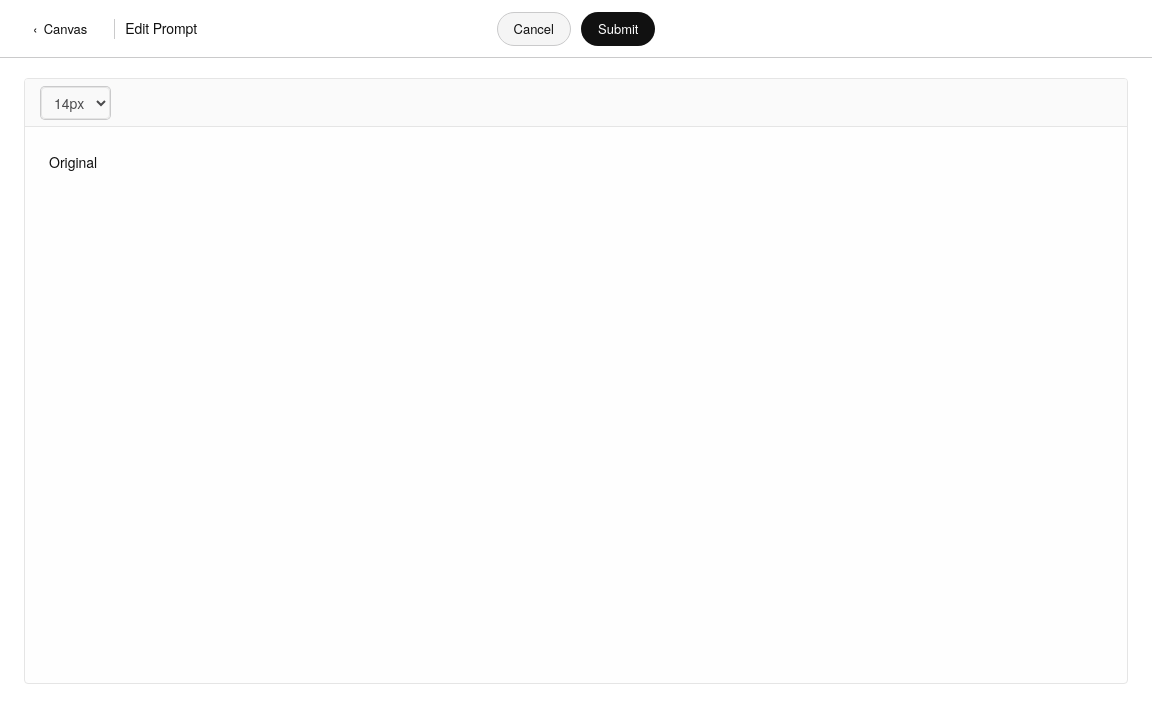
Test: PromptEditorModal › Unsaved Changes Confirmation Dialog › should dismiss confirmation dialog when clicking outside of it
Replace the text in the text box with placeholder "Describe what to generate..." with "Changed" at x=576, y=405, box [25,127,1127,683]
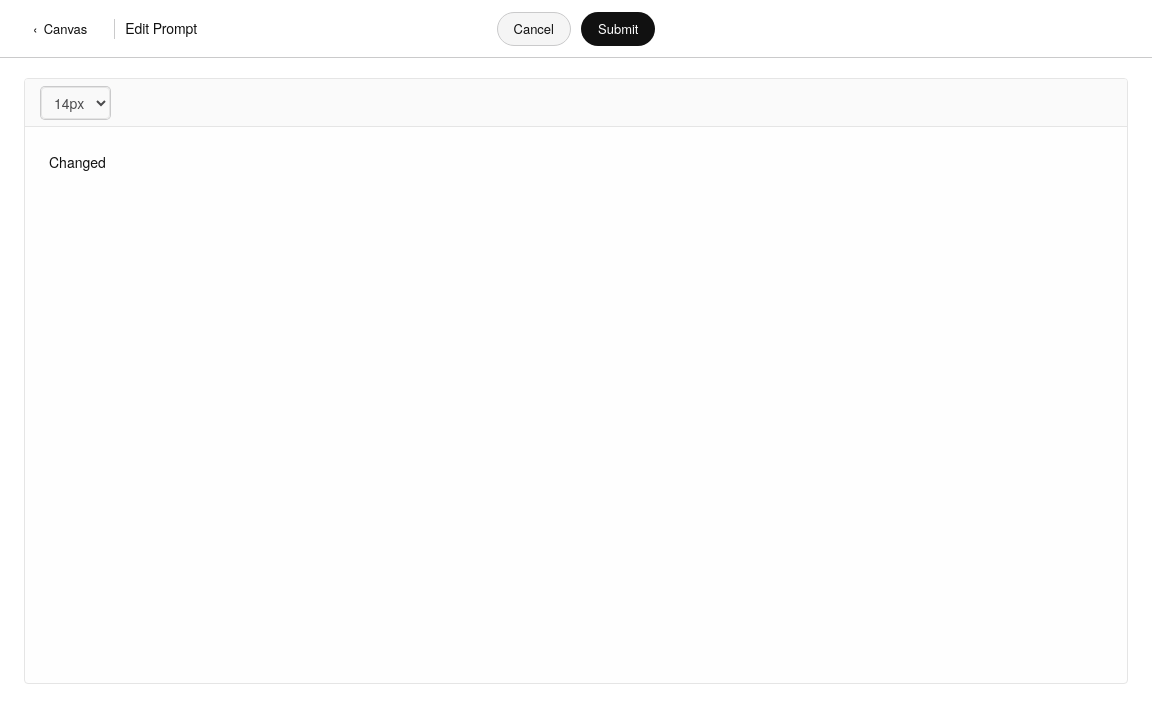
Click the button "Cancel" at x=534, y=28, box [496,12,571,46]
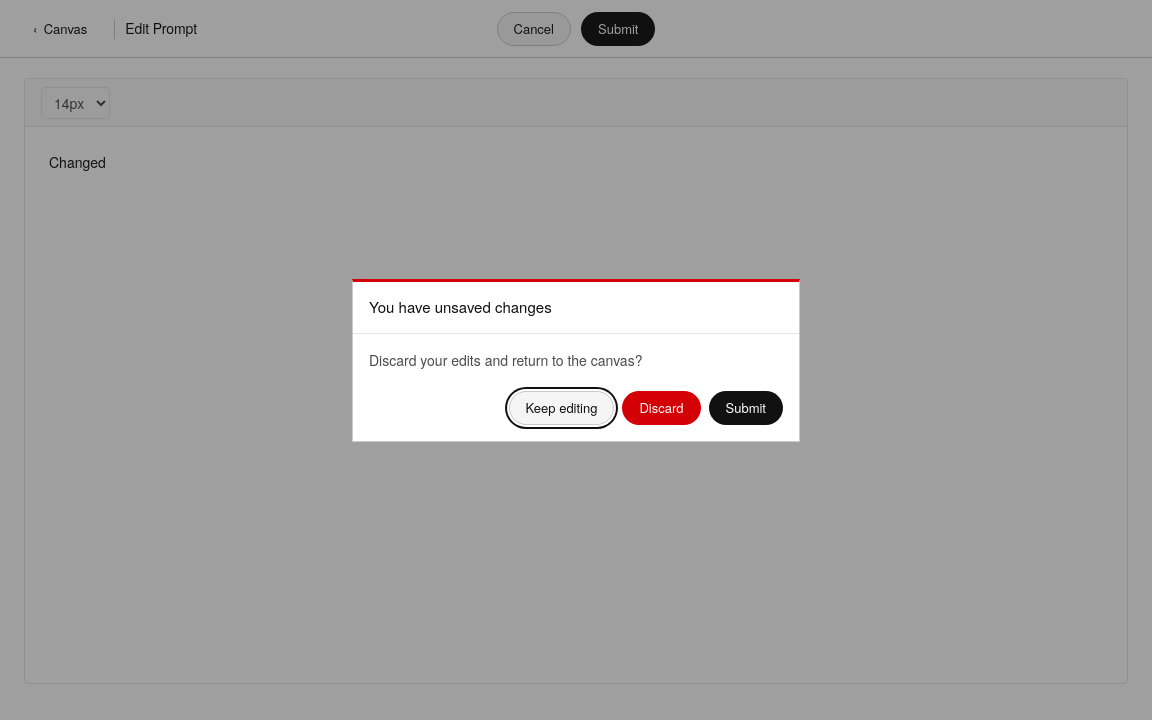
Expected: the heading "You have unsaved changes" is shown, [369,296,552,318]
Click the element with class "current-sheet-backdrop" at x=69, y=360, box [0,0,1151,719]
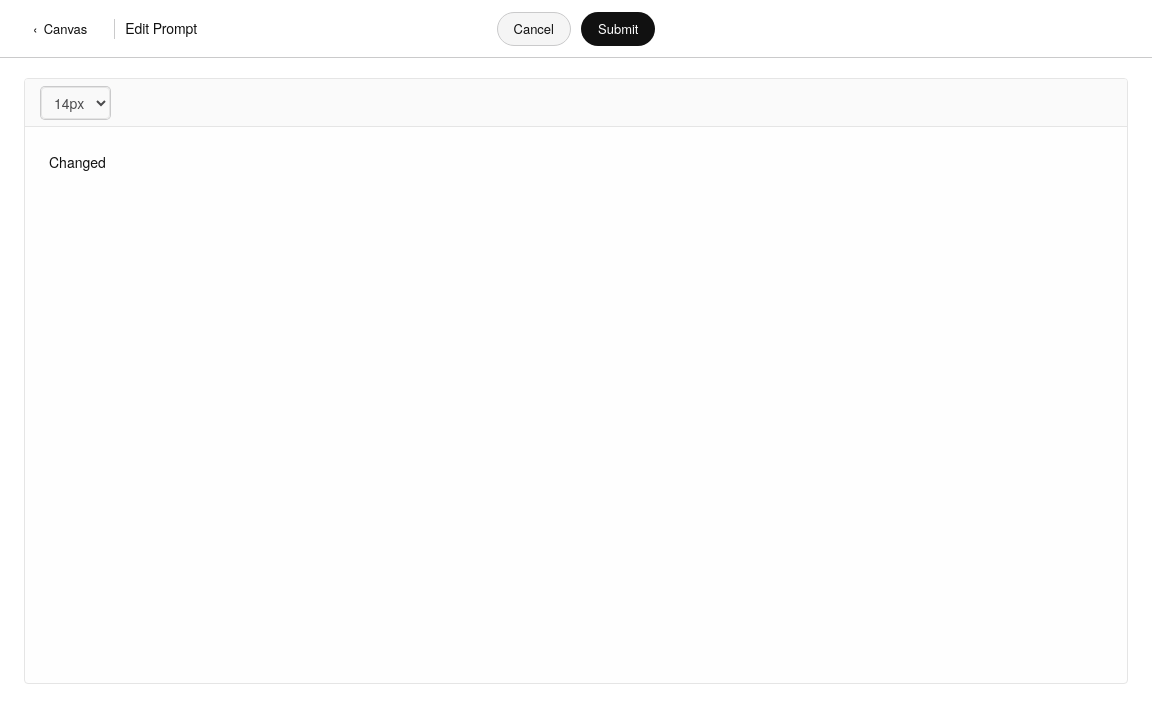
Expected: the heading "You have unsaved changes" is gone
